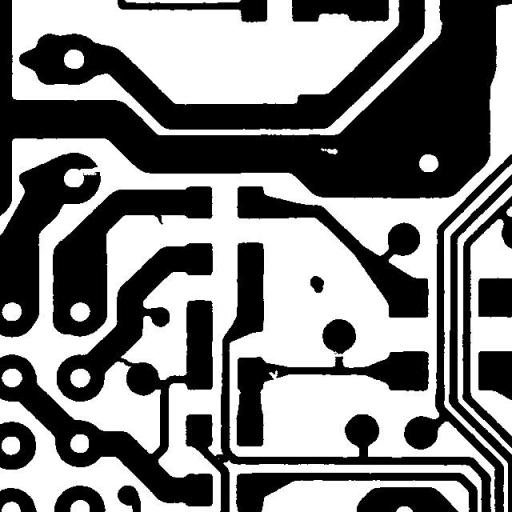copper: (302, 268, 332, 300)
mousebite: (261, 362, 285, 386)
open: (71, 160, 109, 182), (326, 343, 353, 364)
pin-hole: (313, 140, 345, 162)
short: (108, 349, 146, 374), (207, 446, 236, 472)
spur: (146, 205, 170, 232)
